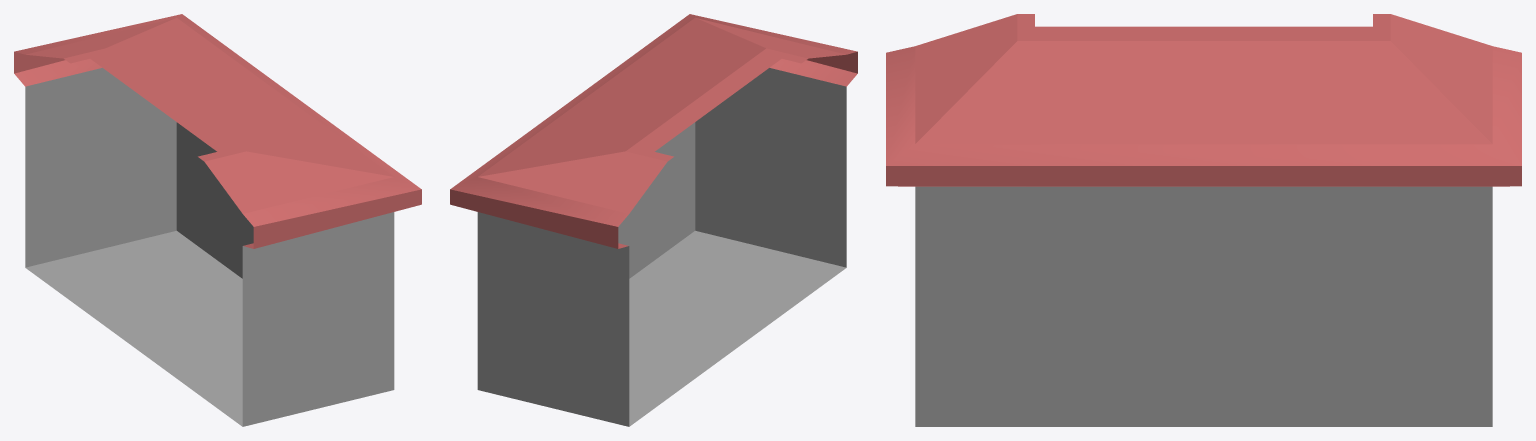
Rendered from Nachbarhaus_2.fbx.
3 views of the same model, side by side, from view 1: azimuth 30°, elevation 25°; view 2: azimuth 150°, elevation 25°; view 3: azimuth 270°, elevation 25° (orthographic). The views are drawn at different scales.
Parts seen in each view (by area): view 1: Nachbarhaus_2_noMat:Mesh; view 2: Nachbarhaus_2_noMat:Mesh; view 3: Nachbarhaus_2_noMat:Mesh.
Part boxes in pixels (x1,y1,x2,y2): Nachbarhaus_2_noMat:Mesh: (14,14,421,426); Nachbarhaus_2_noMat:Mesh: (450,14,857,426); Nachbarhaus_2_noMat:Mesh: (886,14,1521,426).
Size of the model in its own units: 242 by 326 by 597.
